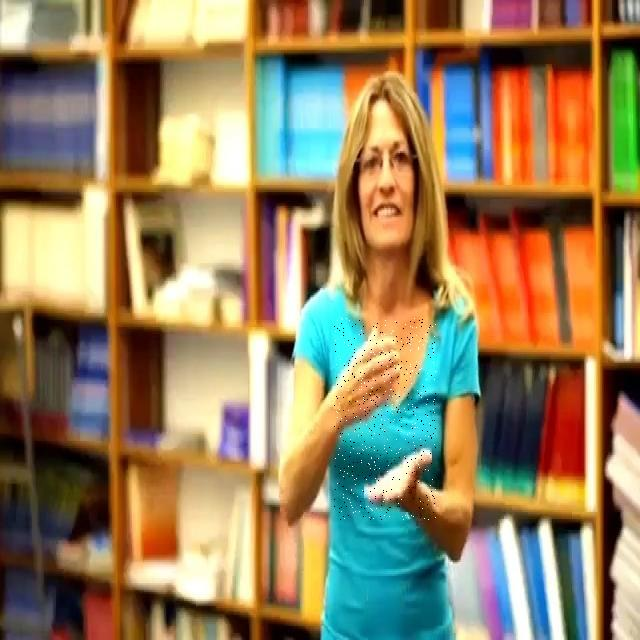cup: (334, 318, 436, 520)
